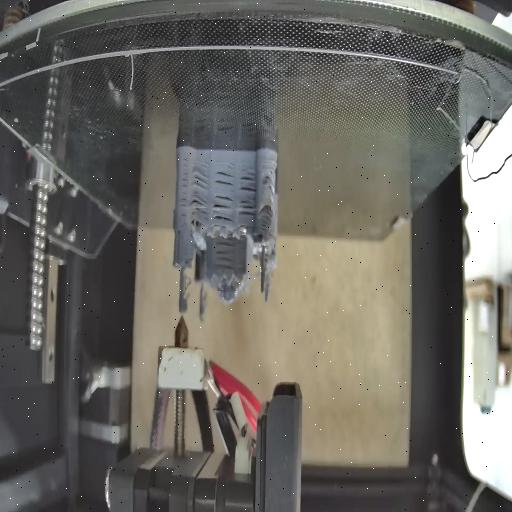cracks: (212, 238, 236, 270), (214, 195, 234, 224), (182, 152, 190, 222), (238, 168, 258, 196), (215, 162, 237, 186), (190, 166, 210, 192), (189, 194, 209, 218), (240, 202, 258, 220), (261, 204, 273, 230), (261, 176, 275, 198)
